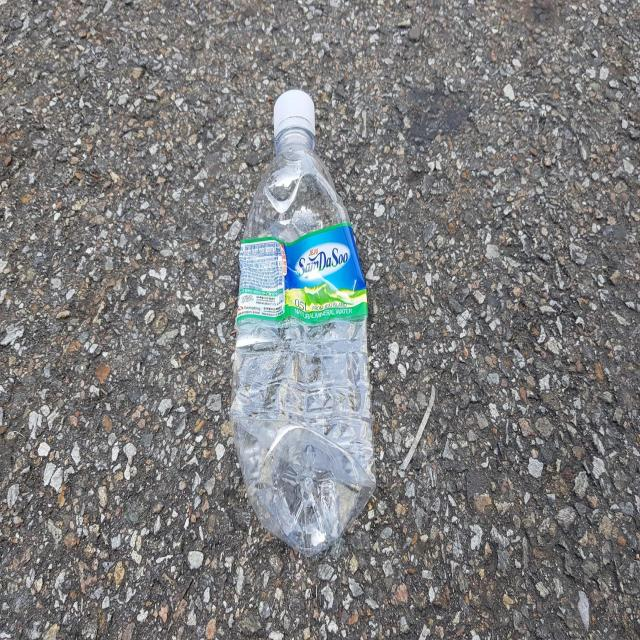plastic: (230, 88, 376, 556)
